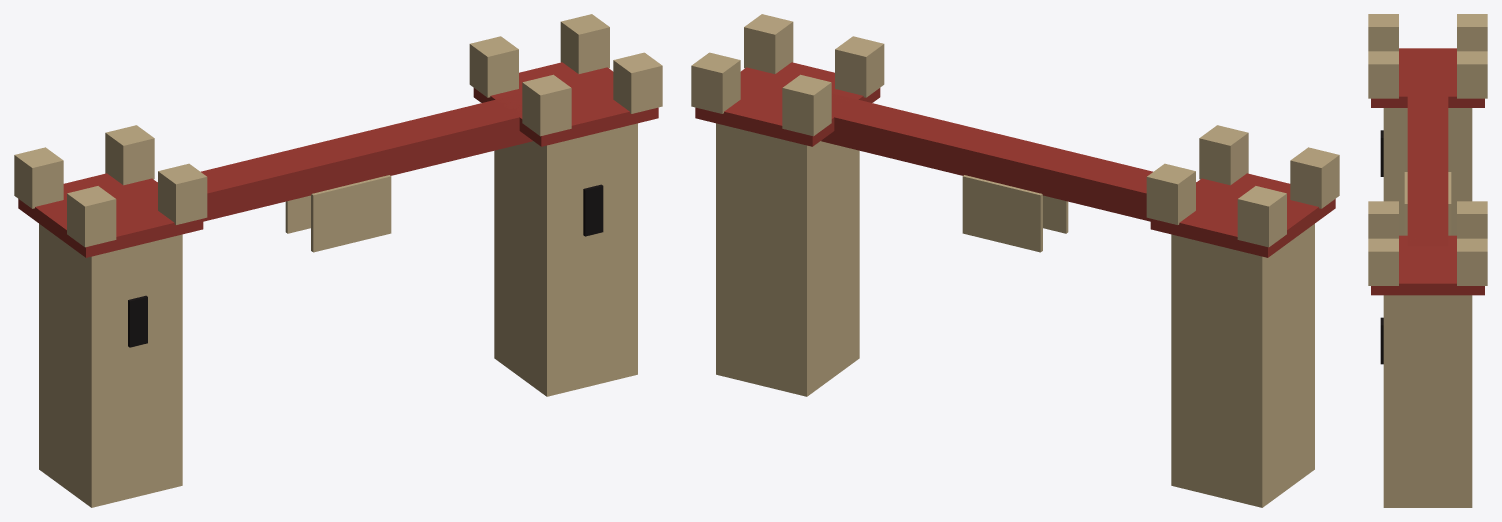
The model's file is minotaur_gate_broken.glb.
3 views of the same model, side by side, from view 1: azimuth 30°, elevation 25°; view 2: azimuth 150°, elevation 25°; view 3: azimuth 270°, elevation 25° (orthographic). The views are drawn at different scales.
Parts seen in each view (by area): view 1: minotaur_gate_piece1, minotaur_gate_piece3, minotaur_gate_piece6, minotaur_gate_piece8, minotaur_gate_piece5, minotaur_gate_piece2, minotaur_gate_piece9, minotaur_gate_piece7, minotaur_gate_piece11, minotaur_gate_piece4, minotaur_gate_piece12; view 2: minotaur_gate_piece6, minotaur_gate_piece5, minotaur_gate_piece1, minotaur_gate_piece4, minotaur_gate_piece3, minotaur_gate_piece13, minotaur_gate_piece7, minotaur_gate_piece11, minotaur_gate_piece8, minotaur_gate_piece2, minotaur_gate_piece0, minotaur_gate_piece12 (+2 smaller); view 3: minotaur_gate_piece2, minotaur_gate_piece1, minotaur_gate_piece3, minotaur_gate_piece5, minotaur_gate_piece8, minotaur_gate_piece10, minotaur_gate_piece4, minotaur_gate_piece7, minotaur_gate_piece9, minotaur_gate_piece13.
Part boxes in pixels (box(x1,y1,x2,y2)): minotaur_gate_piece1: box(24, 125, 225, 415); minotaur_gate_piece3: box(447, 47, 662, 279); minotaur_gate_piece6: box(39, 238, 182, 507); minotaur_gate_piece8: box(515, 212, 637, 396); minotaur_gate_piece5: box(201, 124, 452, 252); minotaur_gate_piece2: box(499, 14, 613, 246); minotaur_gate_piece9: box(415, 113, 575, 244); minotaur_gate_piece7: box(396, 36, 535, 217); minotaur_gate_piece11: box(494, 209, 519, 351); minotaur_gate_piece4: box(14, 147, 182, 429); minotaur_gate_piece12: box(494, 259, 515, 372); minotaur_gate_piece6: box(1171, 267, 1314, 507); minotaur_gate_piece5: box(925, 116, 1152, 252); minotaur_gate_piece1: box(1132, 125, 1339, 337); minotaur_gate_piece4: box(1155, 197, 1291, 409); minotaur_gate_piece3: box(740, 14, 891, 220); minotaur_gate_piece13: box(716, 157, 786, 391); minotaur_gate_piece7: box(751, 81, 940, 247); minotaur_gate_piece11: box(773, 210, 832, 358); minotaur_gate_piece8: box(828, 174, 859, 372); minotaur_gate_piece2: box(691, 52, 829, 254); minotaur_gate_piece0: box(694, 72, 774, 227); minotaur_gate_piece12: box(782, 297, 828, 396); minotaur_gate_piece2: box(1395, 208, 1487, 483); minotaur_gate_piece1: box(1368, 14, 1487, 235); minotaur_gate_piece3: box(1368, 201, 1467, 438); minotaur_gate_piece5: box(1404, 109, 1451, 235); minotaur_gate_piece8: box(1383, 429, 1444, 507); minotaur_gate_piece10: box(1440, 364, 1472, 507); minotaur_gate_piece4: box(1400, 14, 1487, 235); minotaur_gate_piece7: box(1435, 195, 1487, 238); minotaur_gate_piece9: box(1407, 199, 1444, 221); minotaur_gate_piece13: box(1468, 342, 1472, 401).
Bounding box in the file's own units: 4.44 × 2.29 × 0.94.
